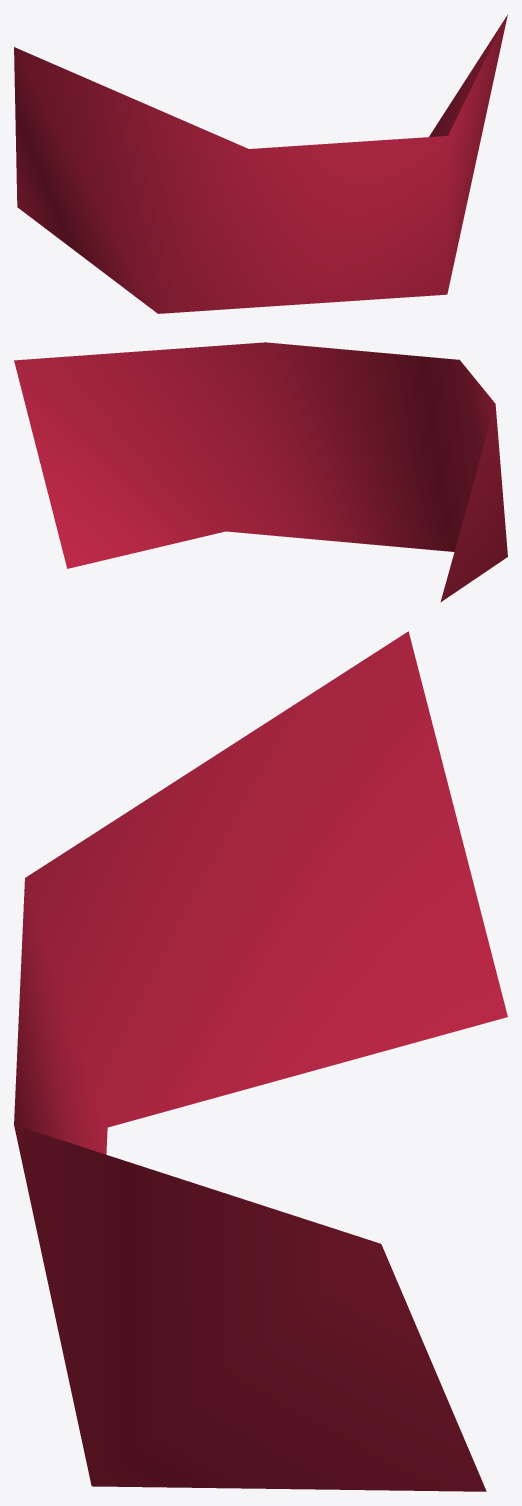
The picture shows the model from 3 angles, top to bottom: view 1: azimuth 30°, elevation 25°; view 2: azimuth 150°, elevation 25°; view 3: azimuth 270°, elevation 25°; orthographic projection. The views are drawn at different scales.
Visible parts, largest first — view 1: ef_423; view 2: ef_423; view 3: ef_423.
Part boxes in pixels (left/top/right/bottom): ef_423: left=14, top=14, right=507, bottom=313; ef_423: left=14, top=342, right=507, bottom=602; ef_423: left=14, top=631, right=507, bottom=1491.
Size of the model in its own units: 1 by 0.5383 by 0.4585.
1 material, 1 textured.
